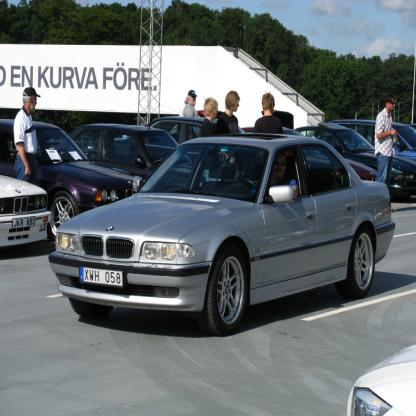Car: (0, 115, 416, 335)
